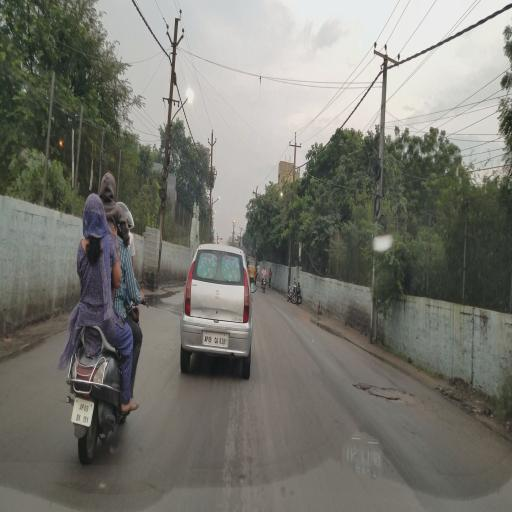street_light_0: (173, 88, 198, 121), (208, 188, 226, 218)
